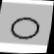no answer: (6, 14, 43, 42)
